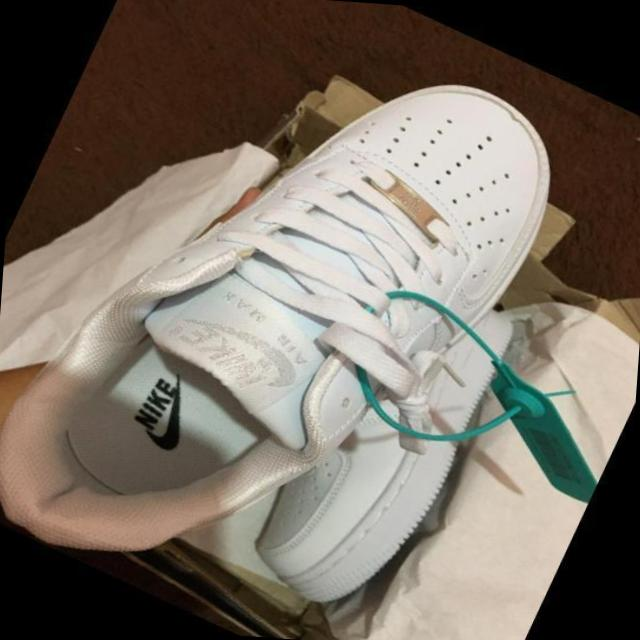nike_fake_airforce: (0, 0, 618, 640), (230, 240, 538, 640)
